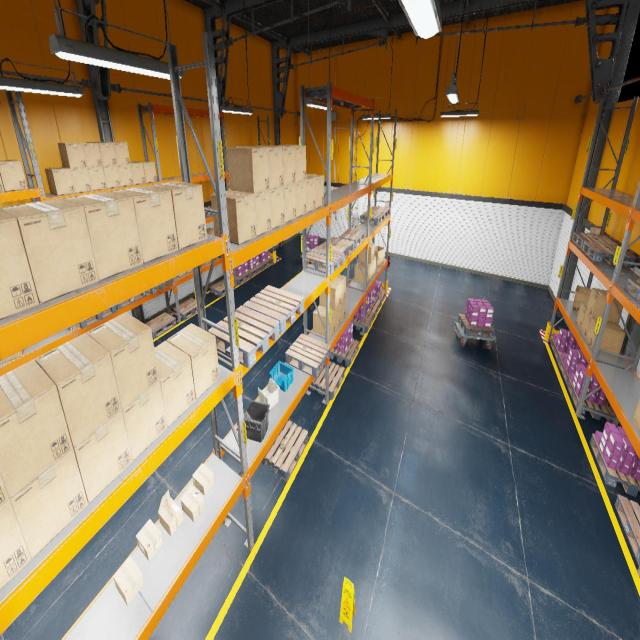box: (0, 198, 99, 304), (0, 360, 73, 498), (35, 333, 122, 447), (10, 449, 88, 558), (60, 191, 143, 281), (86, 312, 159, 410), (73, 410, 132, 503), (108, 186, 178, 263), (0, 210, 39, 320), (146, 182, 207, 250), (167, 323, 219, 399), (122, 380, 167, 460), (154, 341, 196, 426), (0, 499, 31, 589), (211, 190, 256, 245), (227, 146, 270, 194), (113, 556, 144, 606), (586, 317, 626, 353), (250, 146, 283, 189), (586, 287, 623, 323), (158, 489, 183, 536), (268, 145, 296, 186), (136, 519, 163, 561), (580, 310, 616, 338), (280, 144, 306, 182), (180, 485, 204, 522), (0, 160, 28, 191), (45, 167, 75, 195), (254, 190, 272, 236), (313, 305, 335, 340), (192, 464, 215, 496), (58, 143, 87, 168), (319, 280, 341, 310), (270, 186, 285, 228), (306, 174, 324, 208), (79, 142, 102, 167), (70, 167, 92, 193), (571, 285, 591, 312), (284, 183, 296, 223), (87, 166, 107, 190), (98, 142, 117, 166), (137, 161, 157, 183), (103, 165, 121, 188), (296, 180, 306, 218), (117, 164, 134, 186), (354, 261, 370, 284), (306, 176, 316, 212), (130, 162, 146, 184), (114, 142, 130, 164), (334, 274, 346, 303), (358, 243, 374, 264), (0, 349, 24, 363), (576, 302, 587, 330), (0, 472, 9, 506), (361, 260, 374, 280), (632, 398, 640, 430), (374, 246, 385, 266), (335, 304, 341, 332), (340, 297, 346, 323), (176, 272, 188, 278), (0, 174, 4, 191), (373, 256, 376, 276), (207, 228, 214, 235), (204, 260, 212, 264), (188, 269, 192, 273)
pallets: (208, 306, 280, 368), (590, 433, 640, 497), (243, 285, 304, 334), (261, 420, 308, 482), (566, 378, 614, 423), (286, 334, 330, 378), (614, 494, 640, 566), (582, 240, 637, 268), (310, 361, 345, 400), (302, 247, 344, 274), (76, 305, 117, 329), (458, 314, 494, 338), (145, 312, 176, 339), (572, 231, 618, 249), (330, 338, 359, 366), (319, 236, 354, 258), (116, 291, 147, 309), (173, 297, 197, 320), (338, 228, 364, 248), (351, 311, 374, 333), (550, 337, 568, 362), (558, 356, 574, 384), (210, 279, 234, 297), (146, 278, 172, 294), (624, 279, 640, 304), (360, 210, 384, 226), (234, 271, 251, 284), (372, 206, 390, 218), (369, 299, 380, 318), (375, 289, 386, 306), (248, 264, 263, 276), (259, 258, 273, 269), (205, 206, 212, 216), (205, 213, 207, 218)
